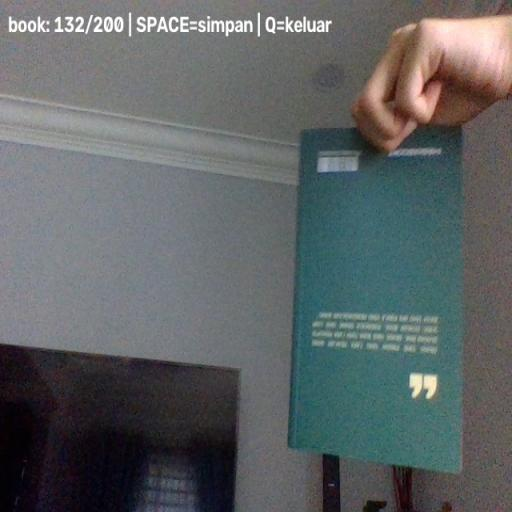Book: (286, 124, 466, 476)
